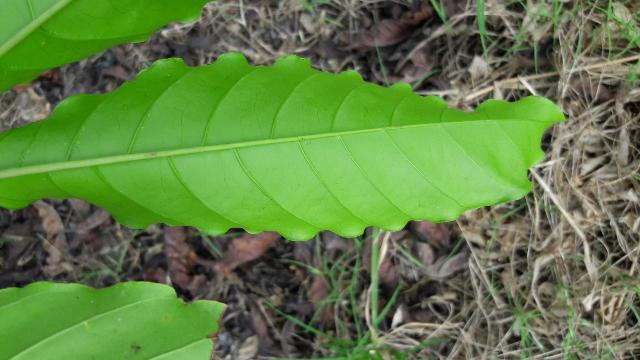healthy: (3, 52, 552, 232)
